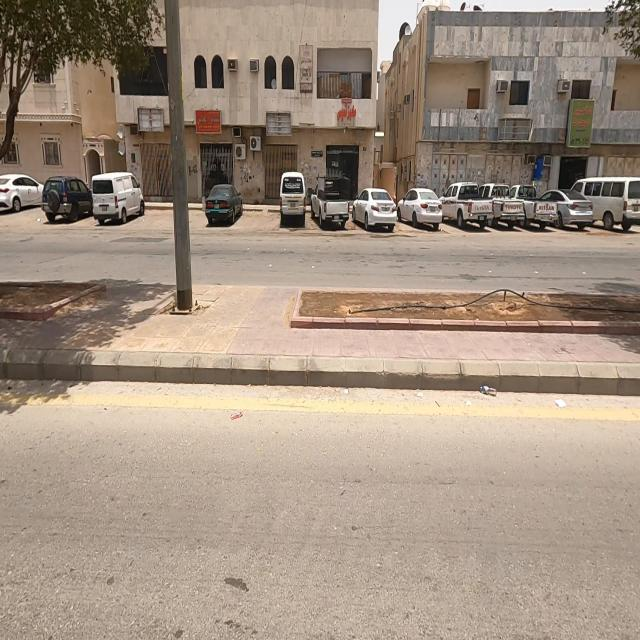Graffiti: (240, 173, 255, 187), (189, 164, 198, 179), (306, 175, 314, 188)
